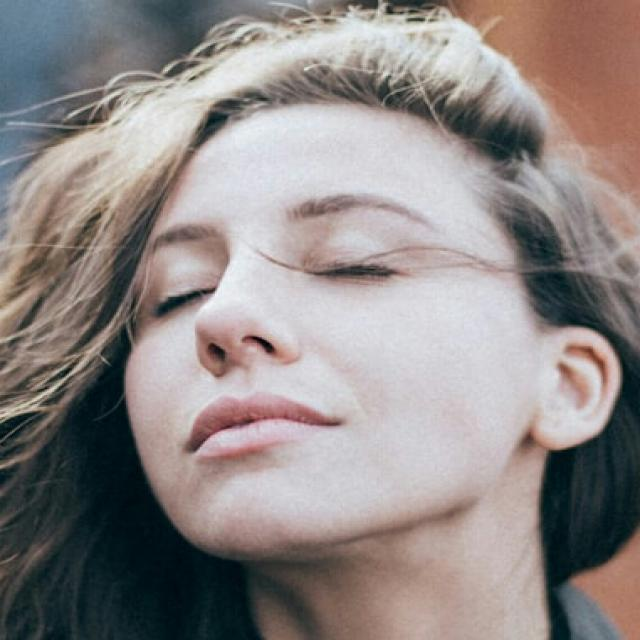front: (160, 193, 445, 497)
